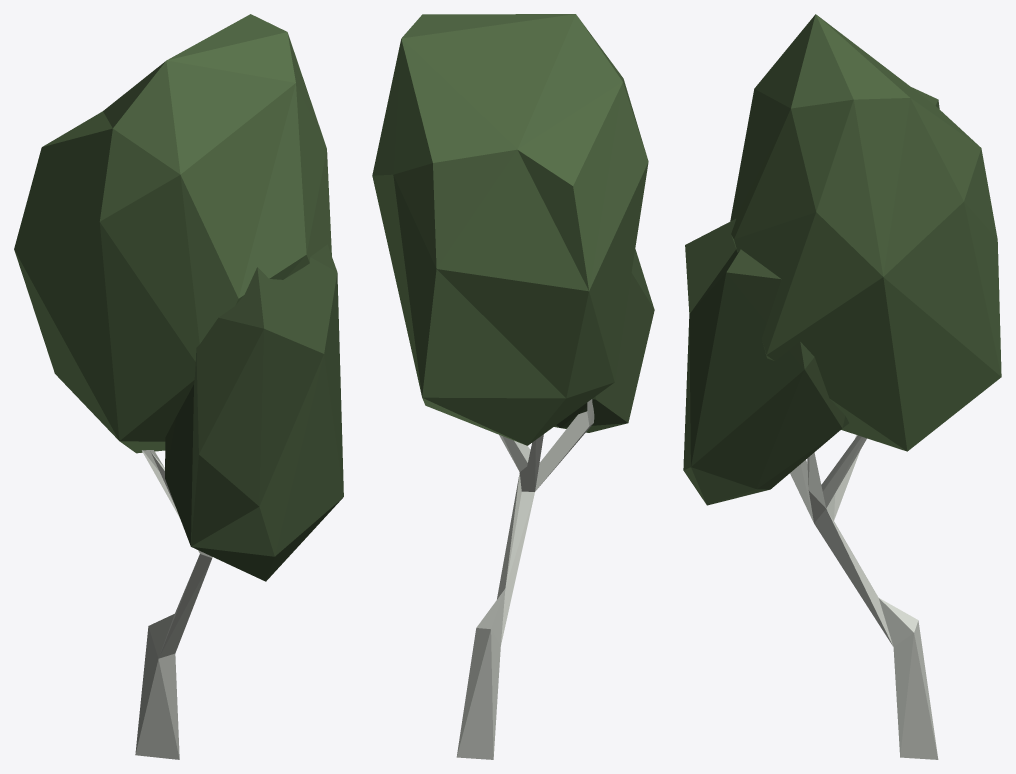
The model's file is BirchTree_2.lod3.glb.
The picture shows the model from 3 angles, left to right: view 1: azimuth 30°, elevation 25°; view 2: azimuth 150°, elevation 25°; view 3: azimuth 270°, elevation 25°; orthographic projection. The views are drawn at different scales.
Visible parts, largest first — view 1: BirchTree_2; view 2: BirchTree_2; view 3: BirchTree_2.
Boxes of the visible parts, x1,y1,x2,y2 form: BirchTree_2: (14, 14, 343, 759); BirchTree_2: (372, 14, 654, 759); BirchTree_2: (683, 14, 1001, 759).
Bounding box in the file's own units: 1.48 × 4.04 × 1.62.
